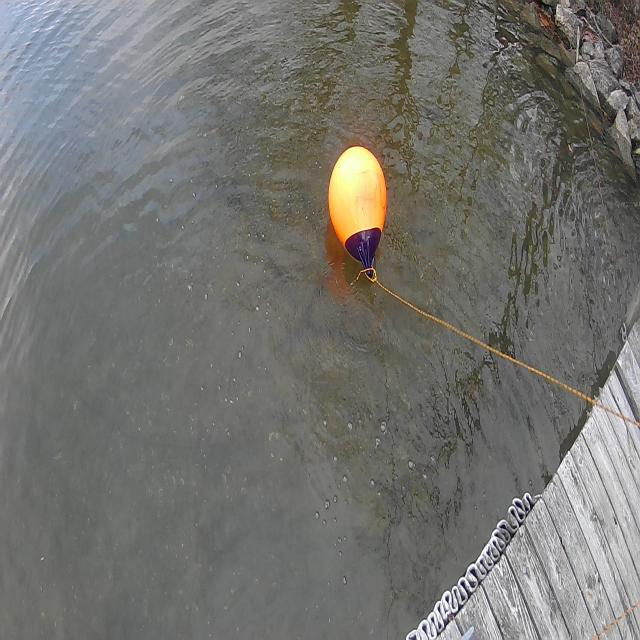Buoy: (326, 141, 389, 260)
